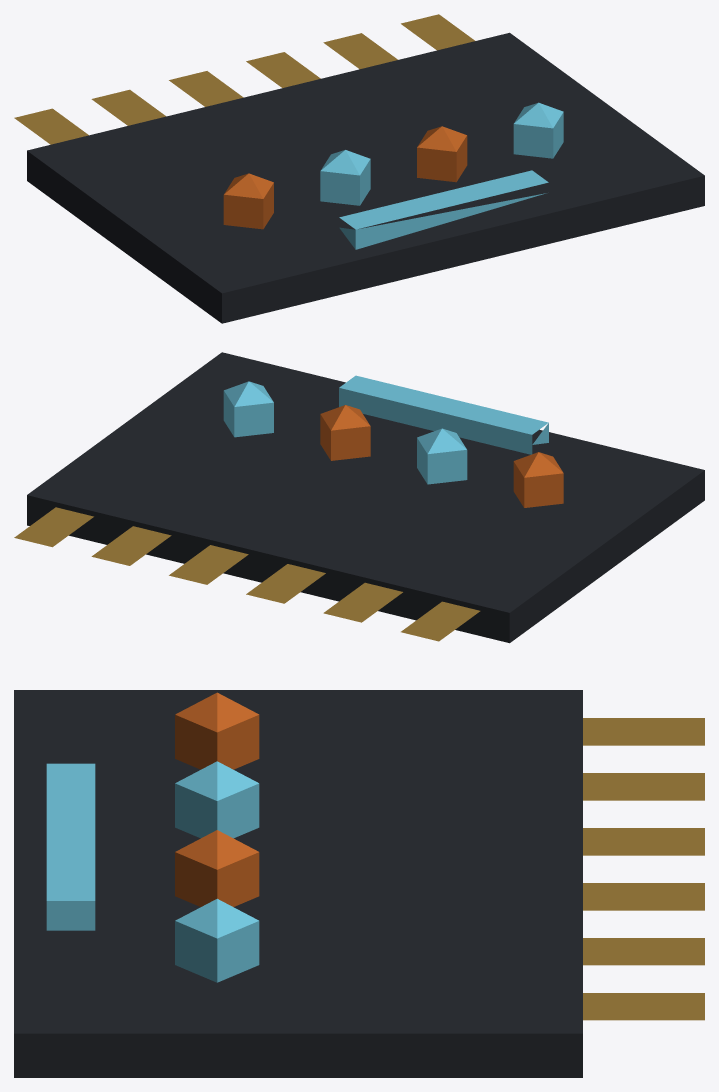
File: mod-subroutine.lod.glb
3 renders of one model, top to bottom at view 1: azimuth 30°, elevation 25°; view 2: azimuth 150°, elevation 25°; view 3: azimuth 270°, elevation 25°, orthographic. The views are drawn at different scales.
Parts seen in each view (by area): view 1: m; view 2: m; view 3: m.
Part boxes in pixels (left/top/right/bottom): m: left=14, top=14, right=704, bottom=323; m: left=14, top=352, right=704, bottom=643; m: left=14, top=690, right=704, bottom=1077.
Size of the model in its own units: 0.05 by 0.0075 by 0.0425.
